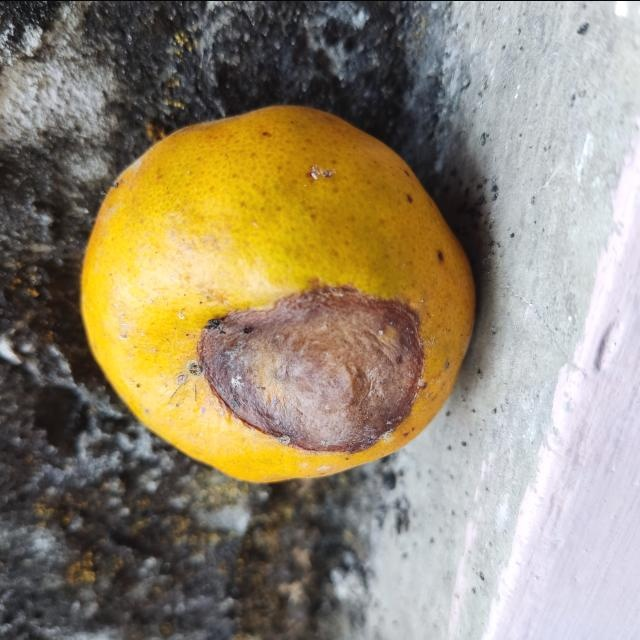agrume: (80, 103, 477, 483)
